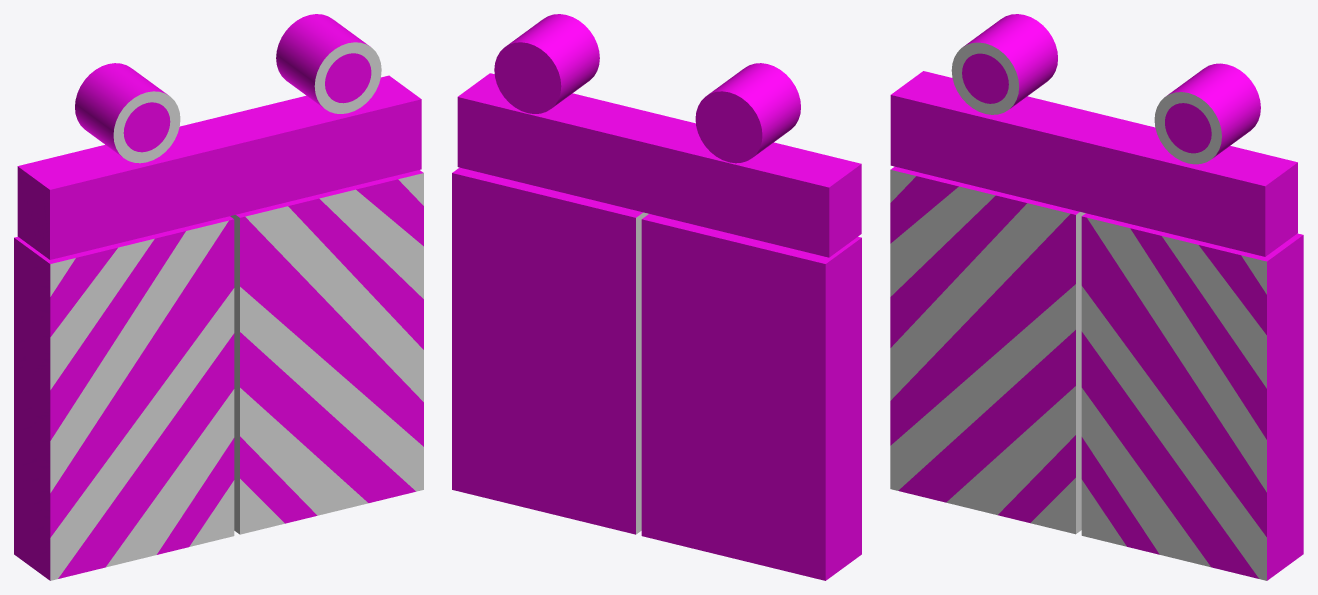
Rendered from DoorDash.fbx.
The picture shows the model from 3 angles, left to right: view 1: azimuth 30°, elevation 25°; view 2: azimuth 150°, elevation 25°; view 3: azimuth 330°, elevation 25°; orthographic projection.
Visible parts, largest first — view 1: leftdoor, rightdoor, topdoor, eyeleft, eyeright; view 2: leftdoor, rightdoor, topdoor, eyeleft, eyeright; view 3: rightdoor, leftdoor, topdoor, eyeright, eyeleft.
Boxes of the visible parts, <box> form: leftdoor: <box>14,216,234,580</box>; rightdoor: <box>230,170,423,534</box>; topdoor: <box>17,75,421,259</box>; eyeleft: <box>75,63,180,163</box>; eyeright: <box>276,14,381,113</box>; leftdoor: <box>641,214,861,580</box>; rightdoor: <box>452,167,648,534</box>; topdoor: <box>457,73,861,257</box>; eyeleft: <box>695,63,800,163</box>; eyeright: <box>494,14,599,113</box>; rightdoor: <box>1081,213,1303,580</box>; leftdoor: <box>890,166,1085,534</box>; topdoor: <box>890,71,1297,256</box>; eyeright: <box>1154,63,1260,164</box>; eyeleft: <box>951,14,1057,114</box>.
Bounding box in the file's own units: 258 × 307 × 46.16.
